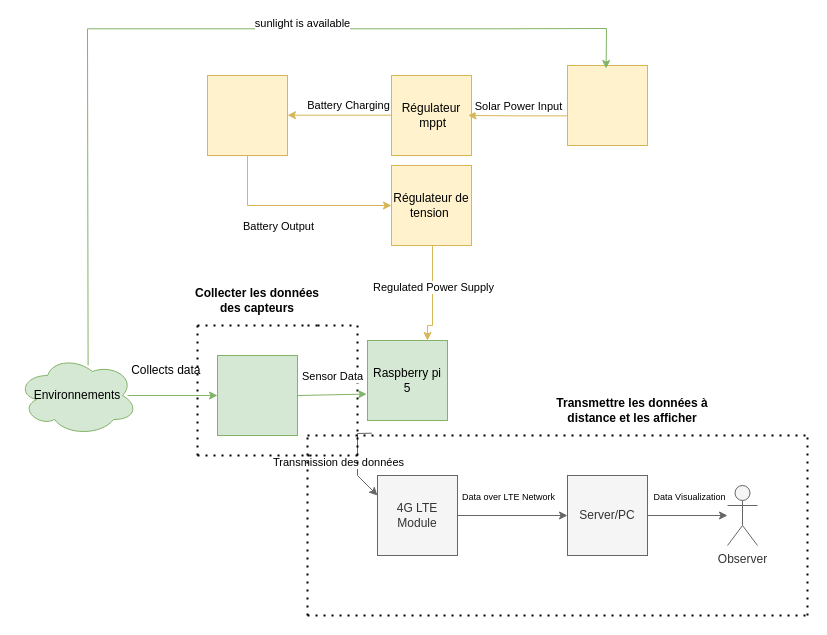
Some shapes in this 827 by 635 pixel diagram are drawn without their labels. The shapes that lost their labels are listed below. From the top down, each one's centre as x and y in pixels, then its label:
At point (247, 115): "Batterie".
At point (607, 105): "Panneau solaire".
At point (257, 395): "Sensors".
